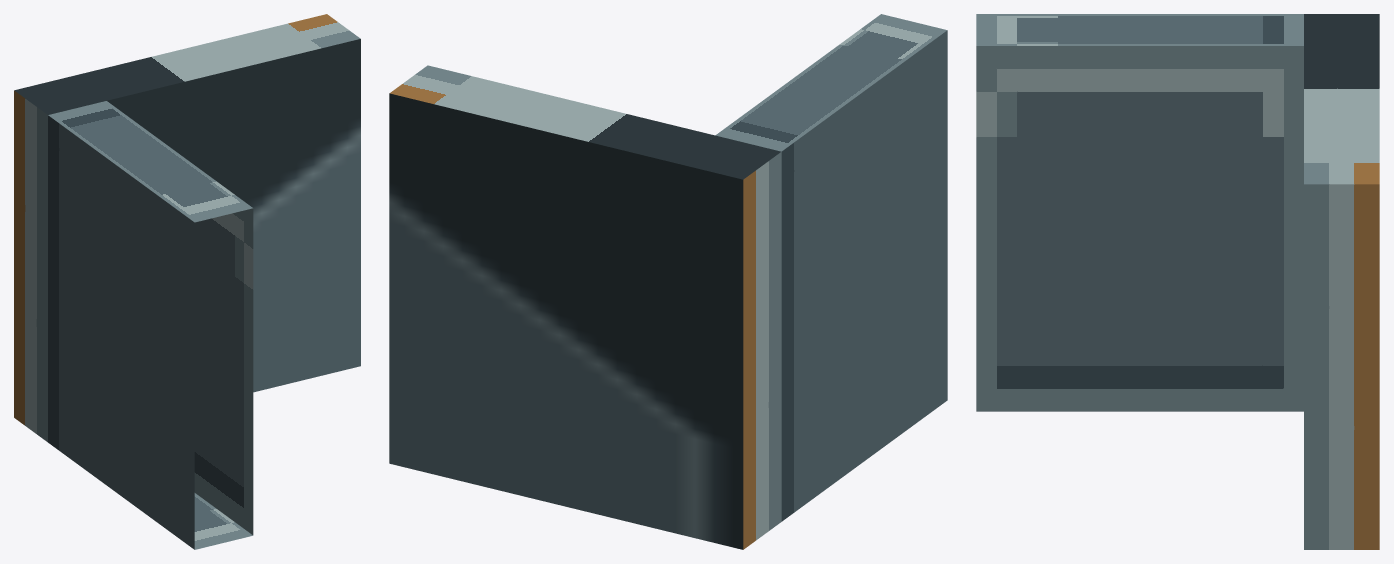
The model's file is casing_d7_front_x-3_y0.obj.
3 renders of one model, left to right at view 1: azimuth 30°, elevation 25°; view 2: azimuth 150°, elevation 25°; view 3: azimuth 270°, elevation 25°, orthographic. The views are drawn at different scales.
Visible parts, largest first — view 1: d7_front_x-3_y0; view 2: d7_front_x-3_y0; view 3: d7_front_x-3_y0.
Part boxes in pixels (bbox=[...]): d7_front_x-3_y0: bbox=[14, 14, 360, 549]; d7_front_x-3_y0: bbox=[389, 14, 947, 549]; d7_front_x-3_y0: bbox=[976, 14, 1379, 549].
Size of the model in its own units: 1 by 1 by 1.
